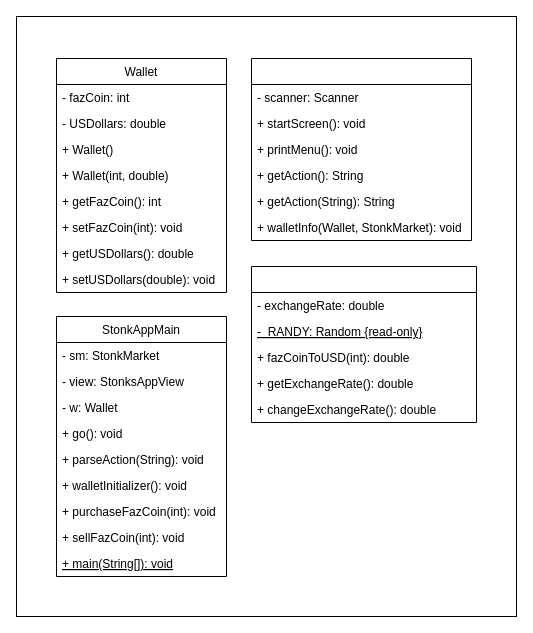
Image size: 533x633. Some labels were removed from this diagram. The shapes that lost their labels are listed below. From the top down, each one's box as (x1, y1, x2, y2) in pixels, then its label:
(250, 58, 472, 240): StonksAppView
(250, 266, 476, 422): StonkMarket
